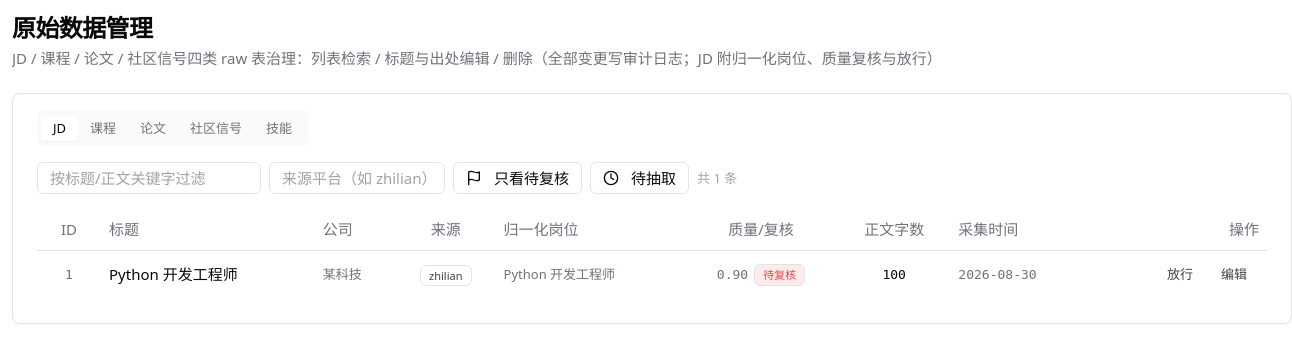
Scenario: AdminRawPage JD tab › 切到课程 tab 走通用端点且显示类型特有列
expect the text "待复核" is shown: met, box [754, 264, 805, 286]
Click the tab "课程" at (103, 128), box [78, 116, 128, 141]
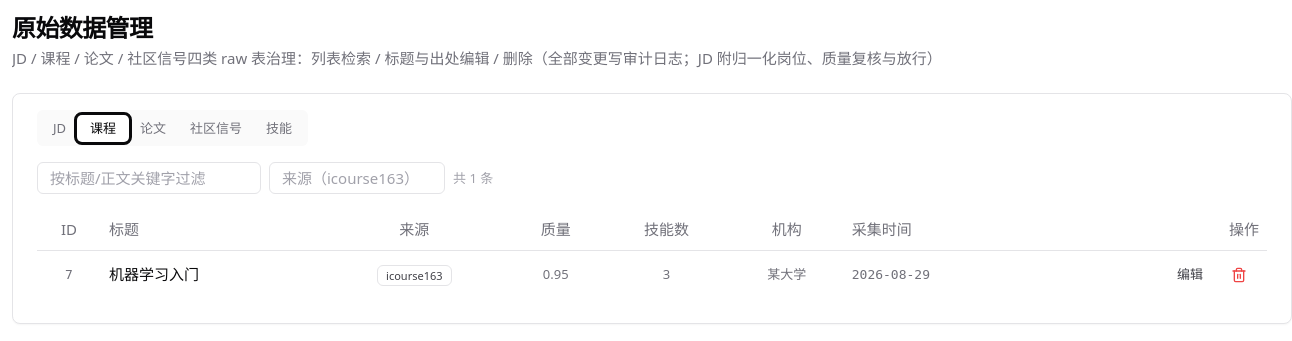
expect the text "机器学习入门" is shown: met, box [101, 250, 321, 299]
expect the text "0.95" is shown: met, box [508, 250, 603, 299]
expect the text "某大学" is shown: met, box [730, 250, 844, 299]
